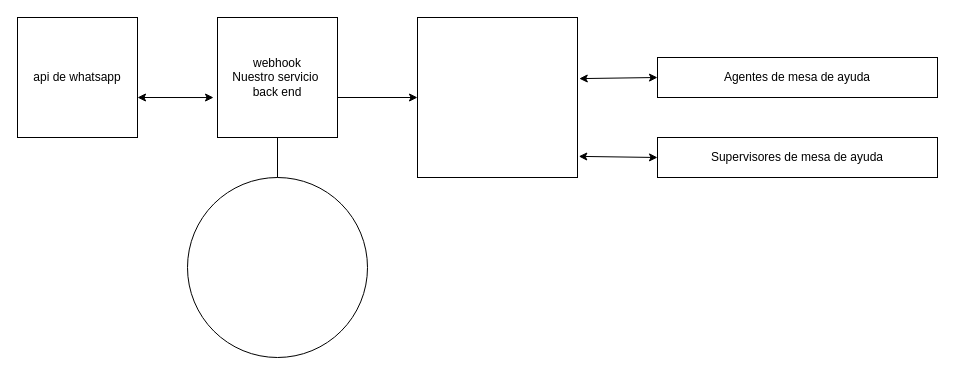
This 955x375 diagram has some shape labels left out. Each missing label, with the centre of its shape:
"nuestro servicio de fron end" belongs at (x=497, y=97).
"Tenemos informacion de la conversacion con valores unicos proveidos por whatsapp" belongs at (x=277, y=267).
